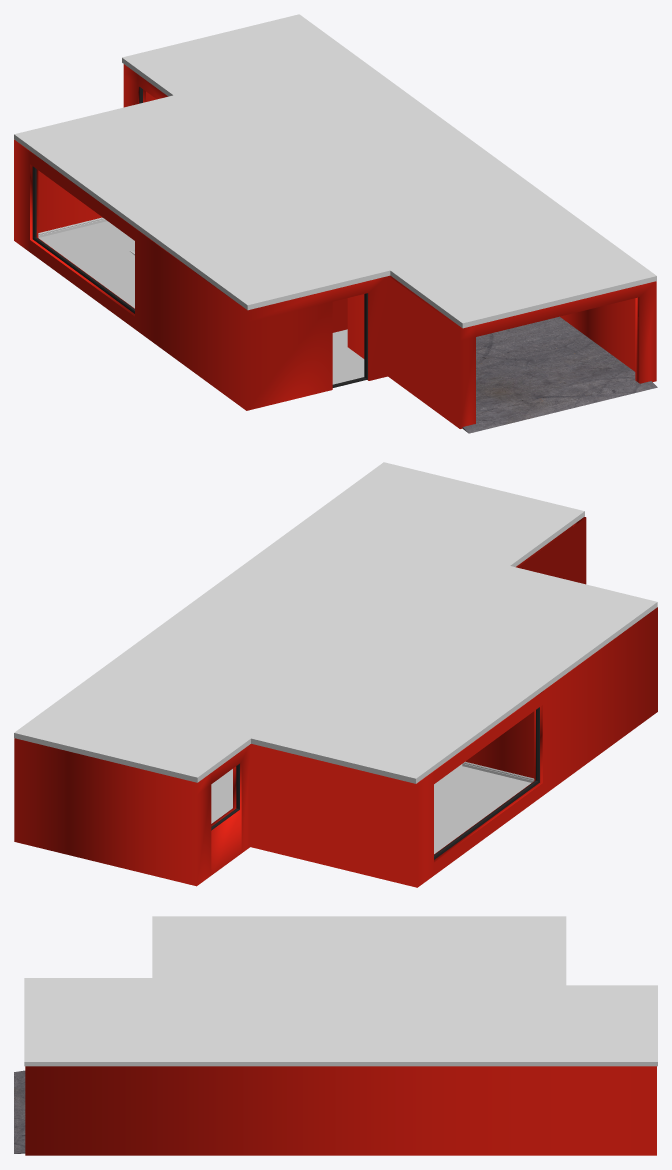
The model's file is MUDesignUnpack2.fbx.
The picture shows the model from 3 angles, top to bottom: view 1: azimuth 30°, elevation 25°; view 2: azimuth 150°, elevation 25°; view 3: azimuth 270°, elevation 25°; orthographic projection. The views are drawn at different scales.
Parts seen in each view (by area): view 1: Cube, Walls, Ceiling.001, Ceiling.002, Walls.006, Ceiling; view 2: Cube, Walls, Ceiling.002, Walls.006, Ceiling; view 3: Cube, Walls, Ceiling.001.
Part boxes in pixels (left/top/right/bottom): Cube: left=14, top=14, right=656, bottom=328; Walls: left=14, top=64, right=656, bottom=428; Ceiling.001: left=462, top=316, right=657, bottom=433; Ceiling.002: left=39, top=221, right=364, bottom=384; Walls.006: left=27, top=149, right=152, bottom=316; Ceiling: left=32, top=87, right=367, bottom=387; Cube: left=14, top=462, right=657, bottom=783; Walls: left=14, top=517, right=657, bottom=887; Ceiling.002: left=211, top=764, right=530, bottom=853; Walls.006: left=417, top=691, right=543, bottom=862; Ceiling: left=211, top=707, right=539, bottom=859; Cube: left=24, top=916, right=657, bottom=1066; Walls: left=25, top=1066, right=656, bottom=1155; Ceiling.001: left=14, top=1070, right=25, bottom=1153.
Size of the model in its own units: 841 by 253 by 1567.
